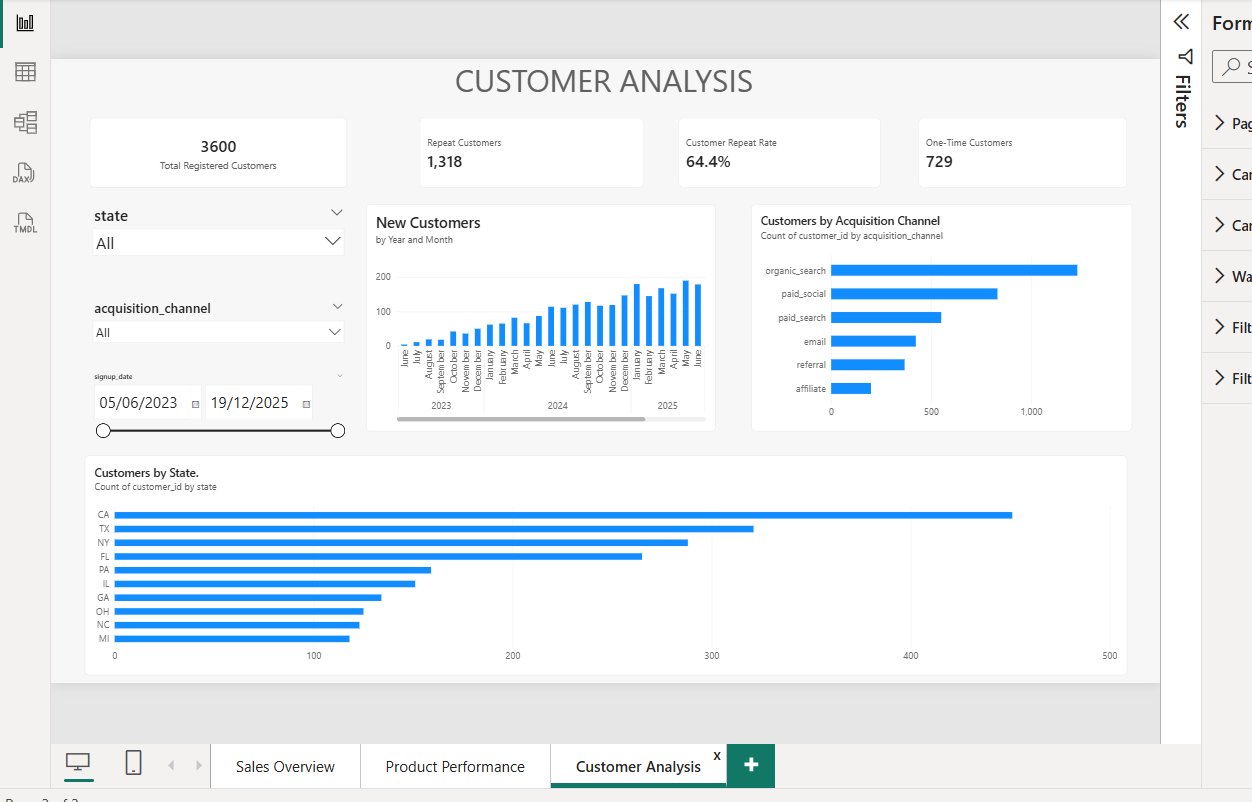

Layout of this report page (visuals, bound fields, positions):
{"tool":"powerbi","page":{"name":"Customer Analysis","canvas":[1920,1081],"ordinal":2},"visuals":[{"type":"card","fields":{"Values":["customers.Total Registered Customers"]},"box":[67.1,101.7,445.8,121.2],"z":0},{"type":"clusteredColumnChart","fields":{"Category":["customers.signup_date.Variation.Date Hierarchy.Year","customers.signup_date.Variation.Date Hierarchy.Month"],"Y":["customers.New Customers"]},"box":[545.4,251,606,393.9],"z":1000},{"type":"clusteredBarChart","title":"Customers by Acquisition Channel","fields":{"Category":["customers.acquisition_channel"],"Y":["Count(customers.customer_id)"]},"box":[1211.9,251,660.1,393.9],"z":2000},{"type":"clusteredBarChart","title":"Customers by State.","fields":{"Category":["customers.state"],"Y":["Count(customers.customer_id)"]},"box":[58.4,686,1804.9,380.9],"z":3000},{"type":"cardVisual","title":"Repeat Customers.","fields":{"Data":["customers.Repeat Customers Display"]},"box":[638.4,101.7,387.4,121.2],"z":4000},{"type":"cardVisual","fields":{"Data":["customers.Customer Repeat Rate"]},"box":[1086.4,101.7,350.6,121.2],"z":5000},{"type":"slicer","fields":{"Values":["customers.state"]},"box":[67.1,251,445.8,93.1],"z":6000},{"type":"slicer","fields":{"Values":["customers.acquisition_channel"]},"box":[67.1,415.5,445.8,99.6],"z":6001},{"type":"cardVisual","fields":{"Data":["customers.One-Time Customers"]},"box":[1501.9,101.7,361.4,121.2],"z":6002},{"type":"slicer","fields":{"Values":["customers.signup_date"]},"box":[67.1,541,445.8,127.7],"z":6003},{"type":"textbox","box":[29,0,1858.5,101.3],"z":6004}]}

Visuals, with their boxes on the page's 1920x1081 design canvas (x1, y1, x2, y2). These are canvas units, not pixel positions in the 1252x802 screenshot, which may show the page scaled, cropped or inside an application window:
card - customers.Total Registered Customers: box(67, 102, 513, 223)
clusteredColumnChart - customers.signup_date.Variation.Date Hierarchy.Year x customers.signup_date.Variation.Date Hierarchy.Month: box(545, 251, 1151, 645)
"Customers by Acquisition Channel" clusteredBarChart: box(1212, 251, 1872, 645)
"Customers by State." clusteredBarChart: box(58, 686, 1863, 1067)
"Repeat Customers." cardVisual: box(638, 102, 1026, 223)
cardVisual - customers.Customer Repeat Rate: box(1086, 102, 1437, 223)
slicer - customers.state: box(67, 251, 513, 344)
slicer - customers.acquisition_channel: box(67, 416, 513, 515)
cardVisual - customers.One-Time Customers: box(1502, 102, 1863, 223)
slicer - customers.signup_date: box(67, 541, 513, 669)
textbox: box(29, 0, 1888, 101)
